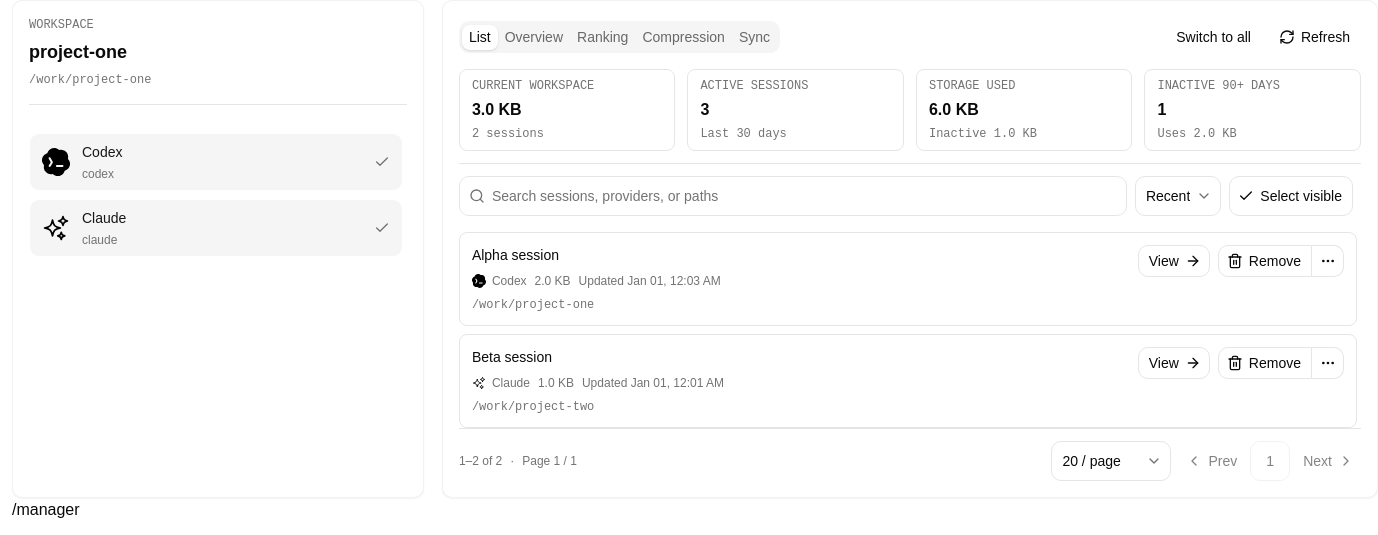
Test: ManagerPage interaction model › keeps row selection separate from opening the session link
This screenshot has width=1378, height=535.
Click the element that starts with "Alpha session" at point(908, 279), box [459,232,1357,326]
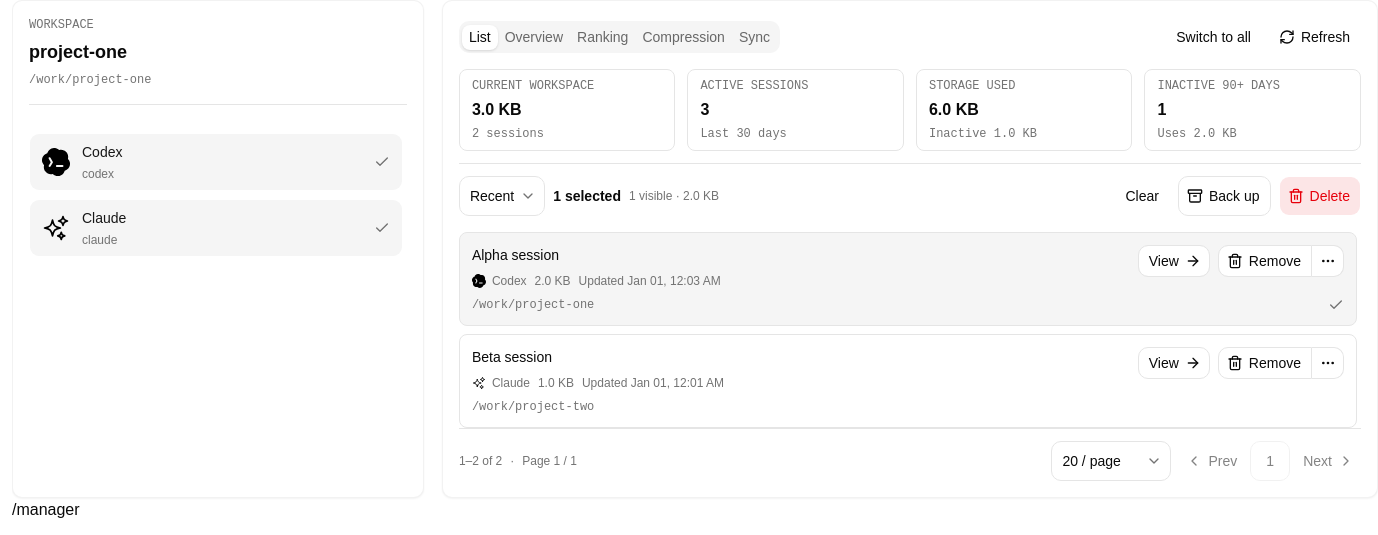
Expected: the text with test id "location" reads "/manager", [12,501,80,518]
Click the link "Alpha session" at point(516, 255), box [472,247,559,263]
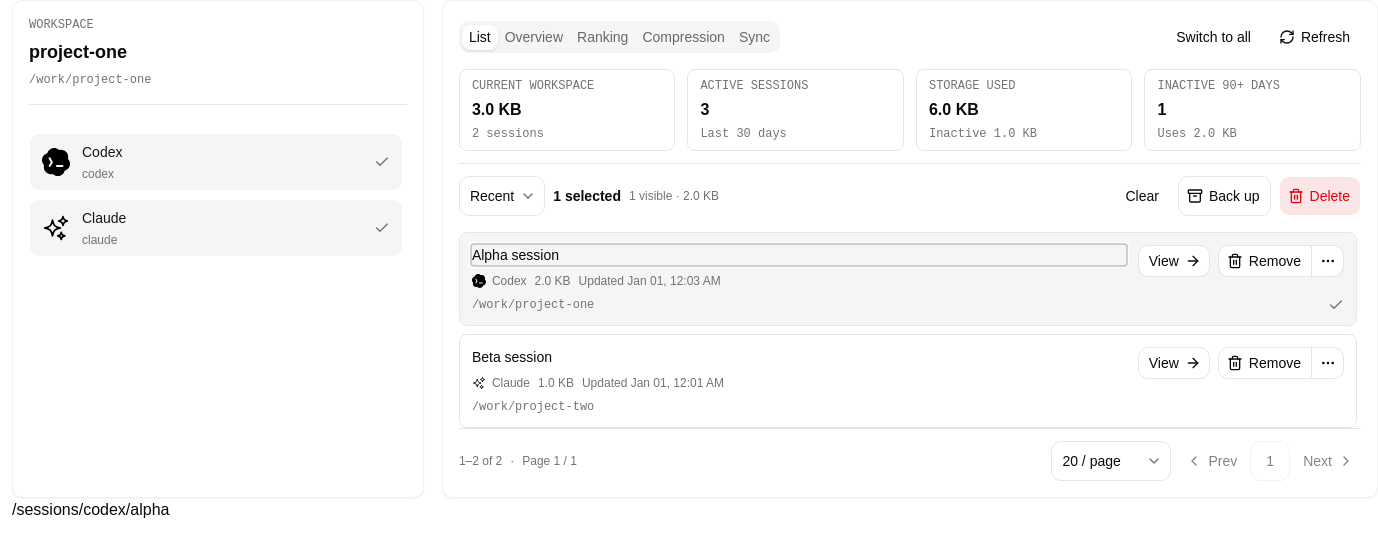
Expected: the text with test id "location" reads "/sessions/codex/alpha", [12,501,169,518]
